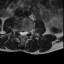CCS_normal: (22, 28, 24, 39)
LFS_normal: (27, 28, 29, 36)
LLS_normal: (24, 28, 27, 38)
RFS_normal: (17, 27, 19, 35)
RLS_normal: (19, 29, 22, 38)
